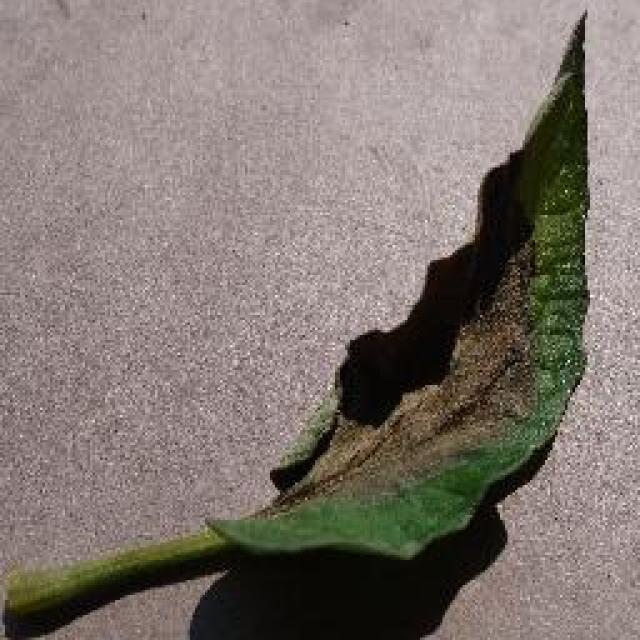Tomato late blight leaf: (206, 15, 592, 562)
